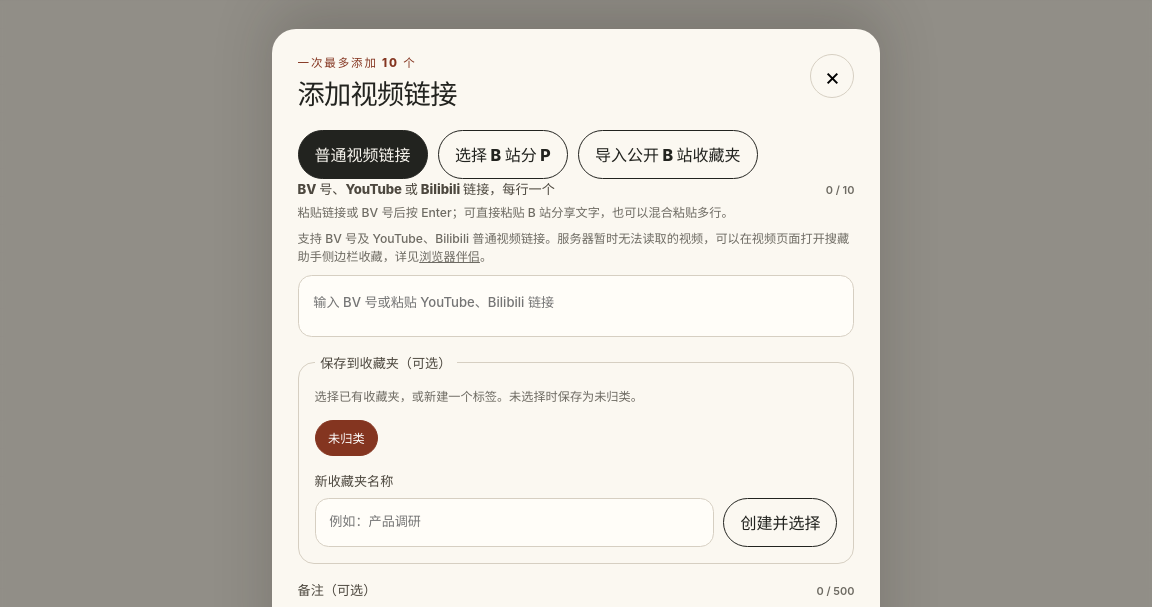
Test: add videos dialog › keeps an explicit P selector when switching the direct draft into part preview
The image size is (1152, 607).
Step 1. Type "https://www.bilibili.com/video/BV1xx411c7mD?p=21" into the text box labelled "BV 号、YouTube 或 Bilibili 链接，每行一个" → [576, 305], box [307,284,845,325]
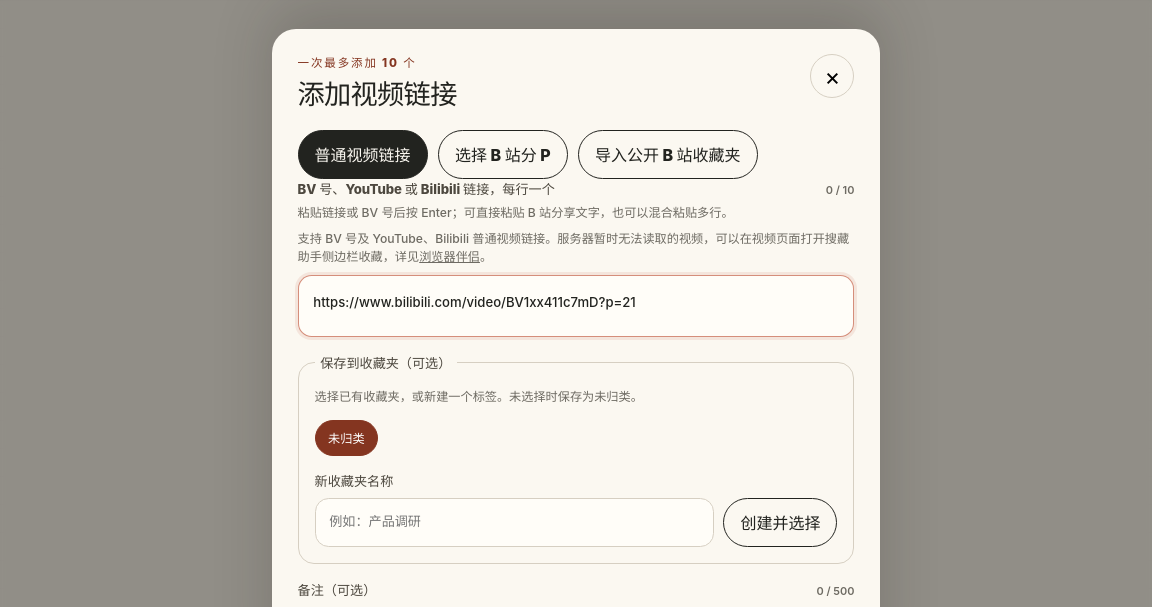
Step 2. Click the button "选择 B 站分 P" → [503, 154], box [438,130,568,179]
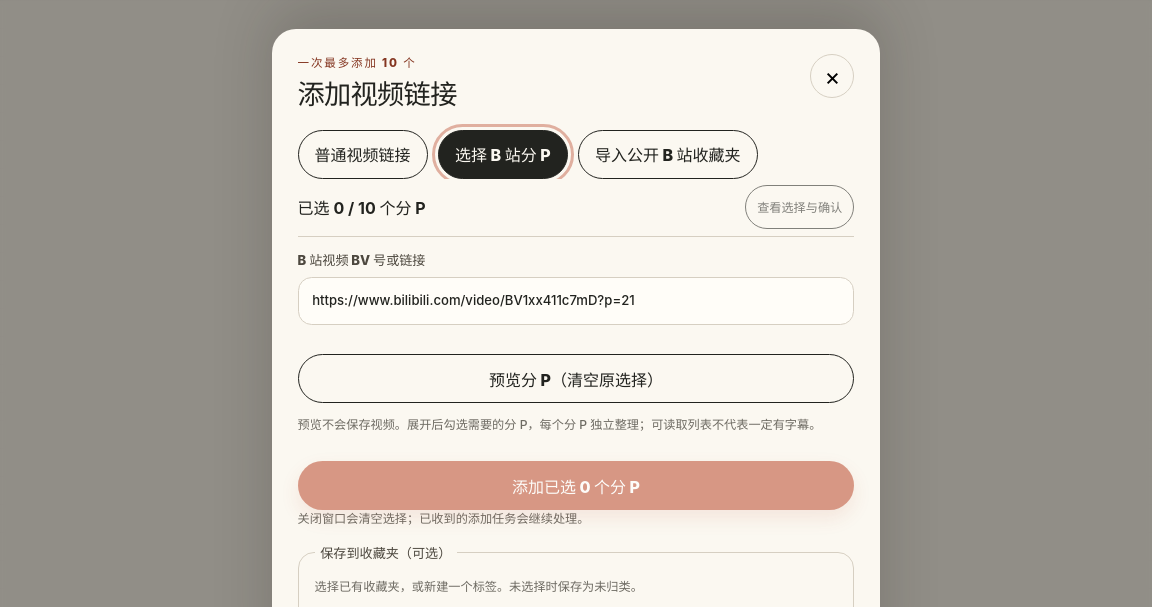
Check: the button "导入公开 B 站收藏夹" is shown, box [578,130,758,179]
Check: the field labelled "B 站视频 BV 号或链接" holds "https://www.bilibili.com/video/BV1xx411c7mD?p=21", box [298,276,854,325]
